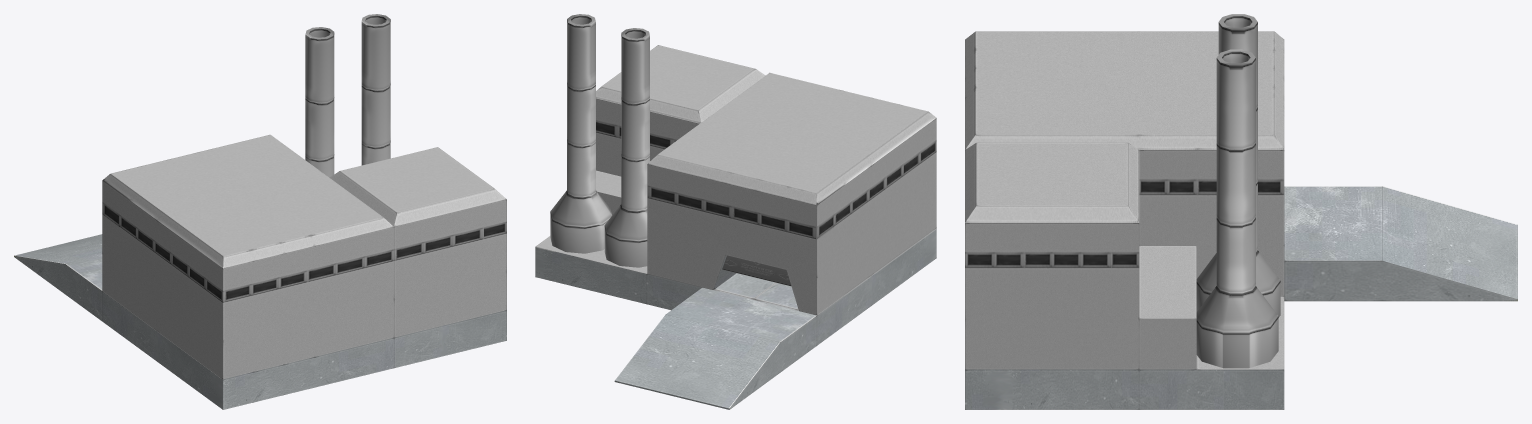
File: SciFi Factory.FBX
3 renders of one model, left to right at view 1: azimuth 30°, elevation 25°; view 2: azimuth 150°, elevation 25°; view 3: azimuth 270°, elevation 25°, orthographic. The views are drawn at different scales.
Visible parts, largest first — view 1: Box19; view 2: Box19; view 3: Box19.
Part boxes in pixels (box(x1,y1,x2,y2)): Box19: box(14, 14, 506, 409); Box19: box(535, 14, 936, 409); Box19: box(965, 14, 1517, 409).
Bounding box in the file's own units: 134 × 114 × 171.
